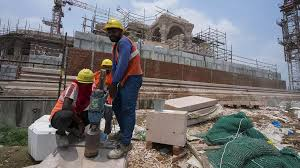arm: (46, 80, 72, 122), (110, 39, 131, 89)
face: (104, 26, 120, 40), (78, 81, 92, 94)
footwear: (108, 140, 133, 159), (82, 143, 100, 159)
helmet: (74, 66, 95, 83), (101, 17, 123, 32), (99, 56, 113, 67)
human: (98, 15, 146, 159), (47, 65, 97, 136)
leg: (105, 75, 141, 160), (81, 103, 103, 159)
vest: (110, 34, 143, 82), (55, 82, 90, 117), (92, 68, 116, 114)
